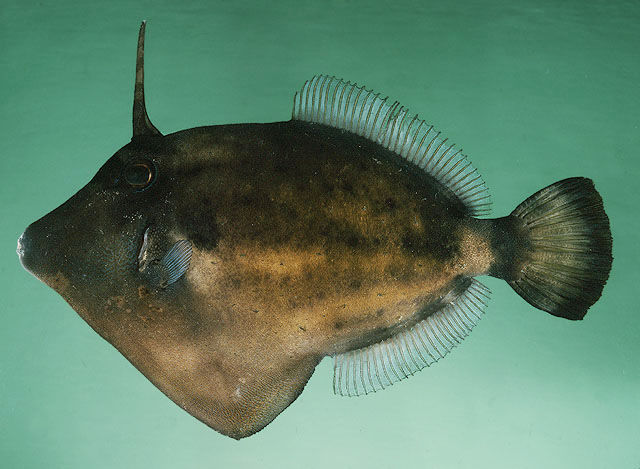fish: (16, 21, 614, 442)
